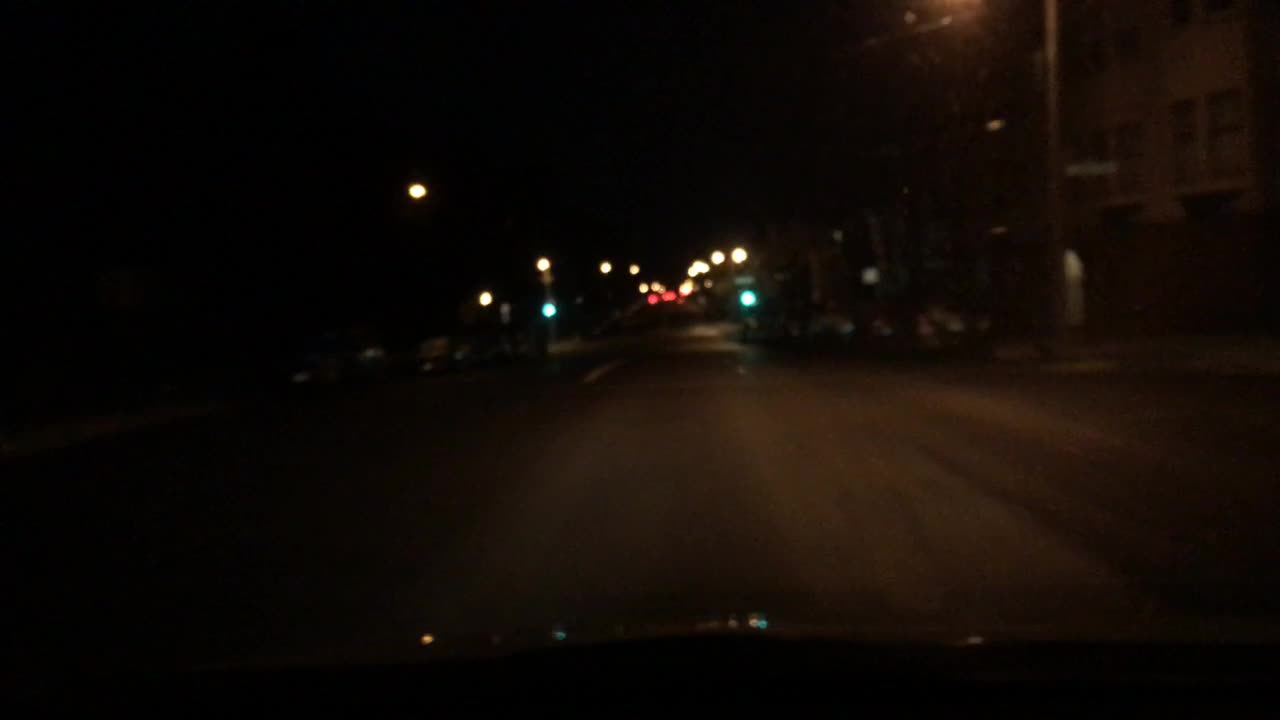car: (900, 295, 995, 358), (293, 343, 381, 383), (776, 306, 854, 344), (862, 306, 903, 356), (416, 338, 471, 371), (738, 306, 781, 336)
traffic light: (736, 290, 756, 308), (541, 301, 556, 320)
traffic sign: (1069, 162, 1117, 175), (734, 275, 757, 285)
